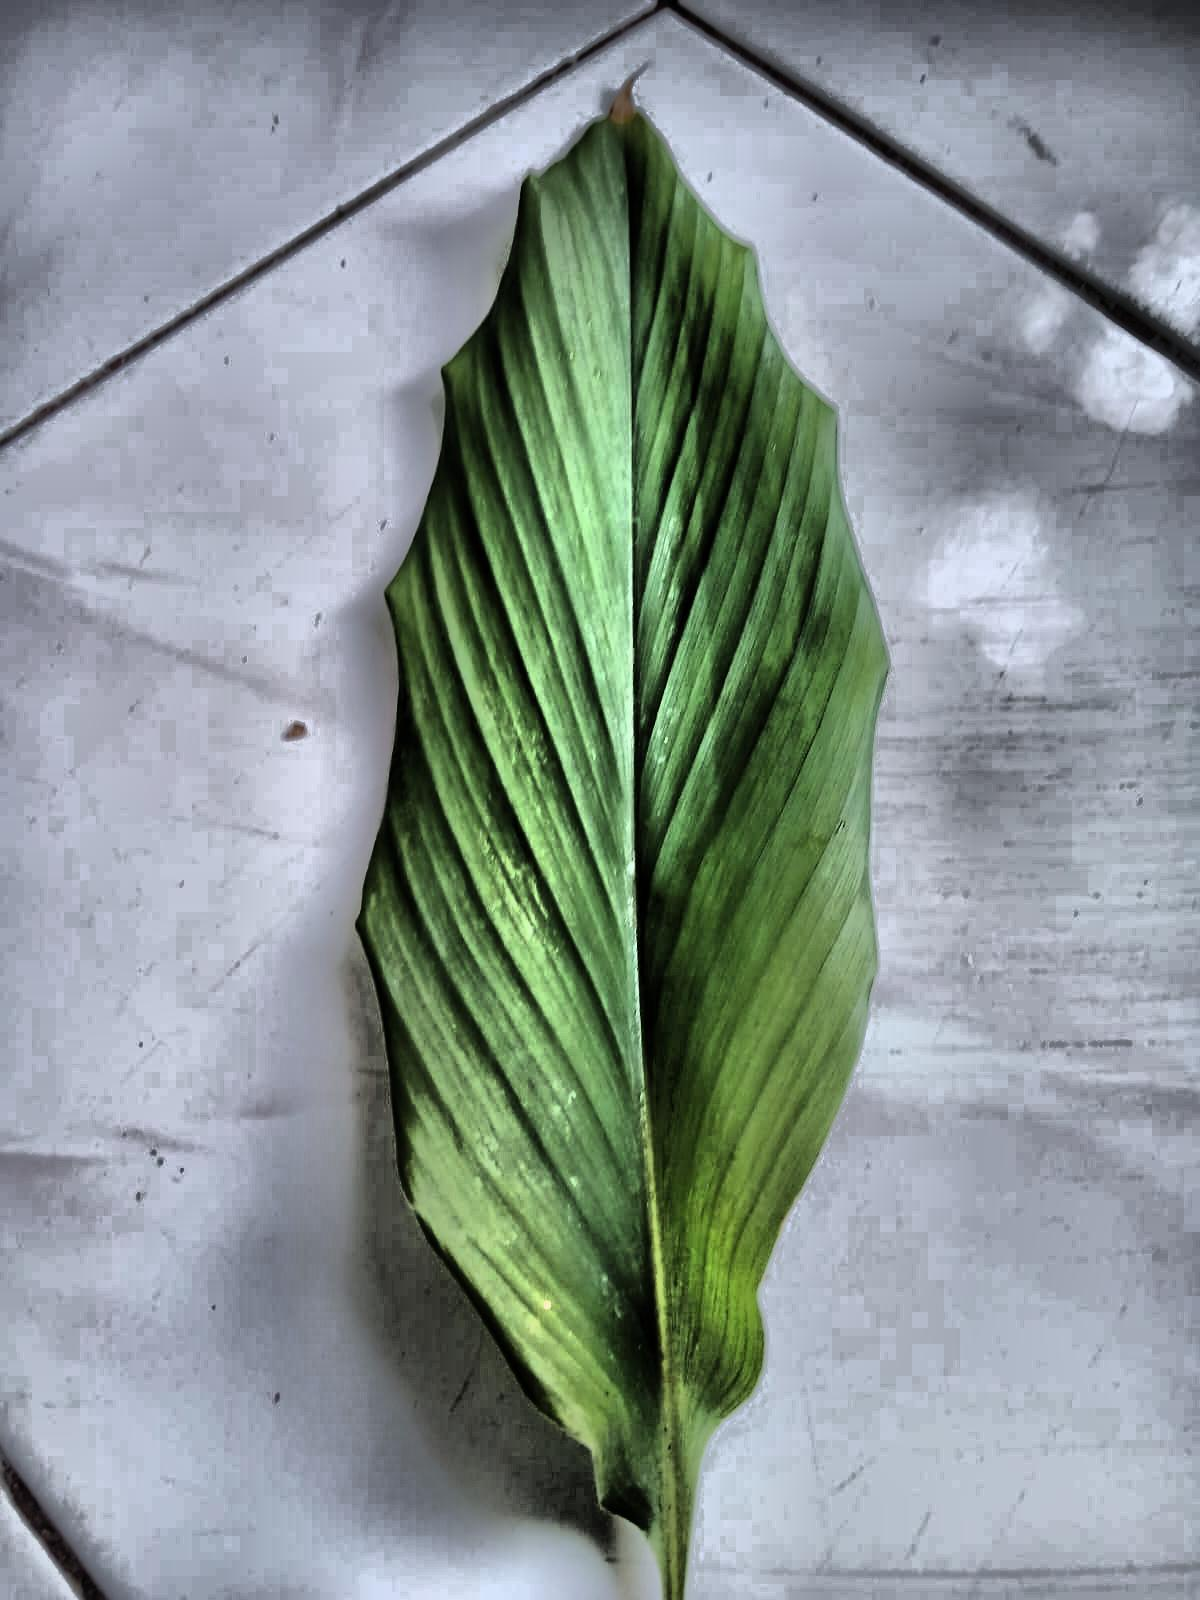daun kunyit: (361, 112, 886, 1599)
